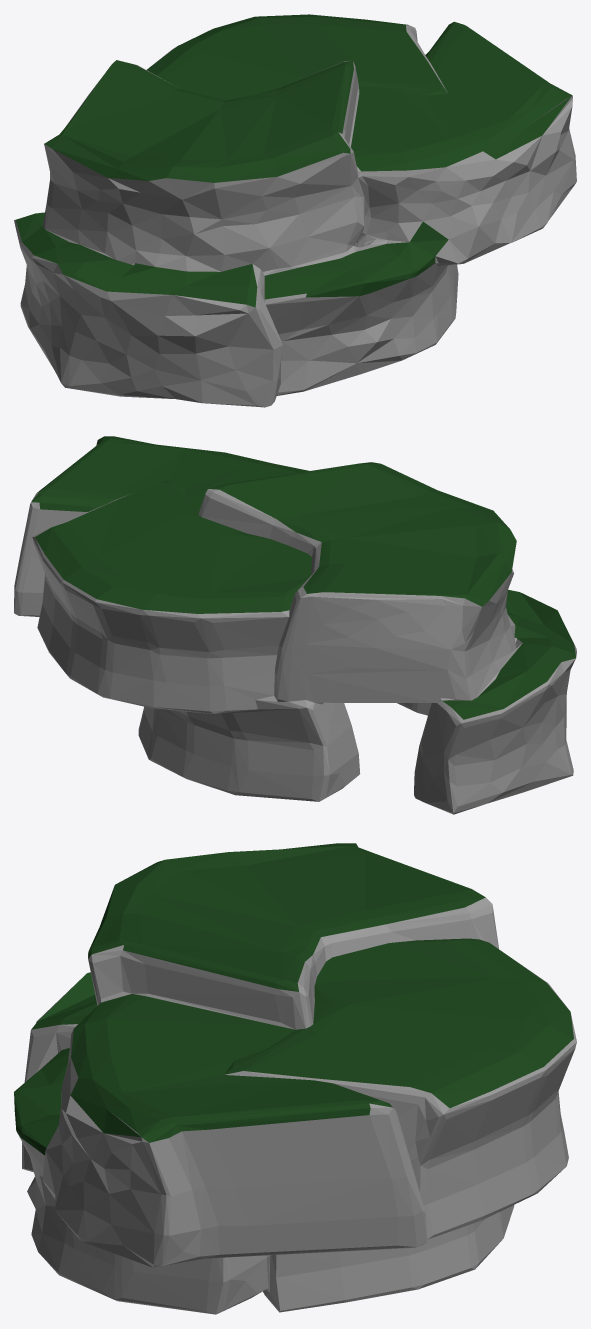
The model's file is Cliff_4.FBX.
The picture shows the model from 3 angles, top to bottom: view 1: azimuth 30°, elevation 25°; view 2: azimuth 150°, elevation 25°; view 3: azimuth 270°, elevation 25°; orthographic projection. The views are drawn at different scales.
Parts seen in each view (by area): view 1: Group10977; view 2: Group10977; view 3: Group10977.
Boxes of the visible parts, x1,y1,x2,y2 form: Group10977: [14, 14, 576, 407]; Group10977: [14, 436, 576, 814]; Group10977: [14, 843, 576, 1314].
Bounding box in the file's own units: 1073 × 485 × 789.
